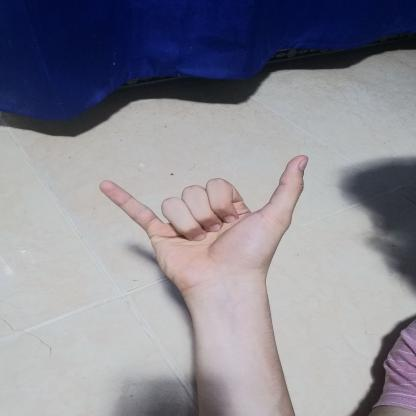YA: (88, 146, 334, 302)
